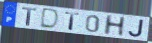0: (85, 14, 103, 33)
D: (39, 7, 61, 30)
H: (103, 14, 128, 37)
J: (127, 19, 146, 39)
T: (64, 11, 81, 32), (21, 7, 37, 27)
